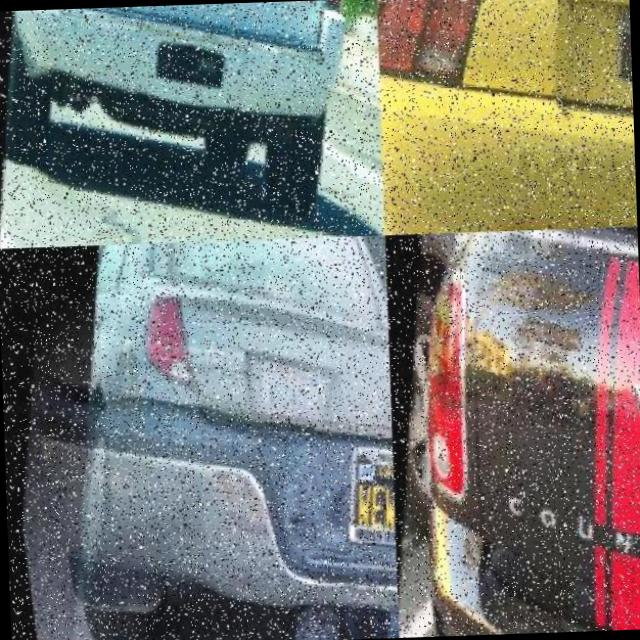LicensePlate: (328, 448, 396, 542), (158, 4, 224, 22)
